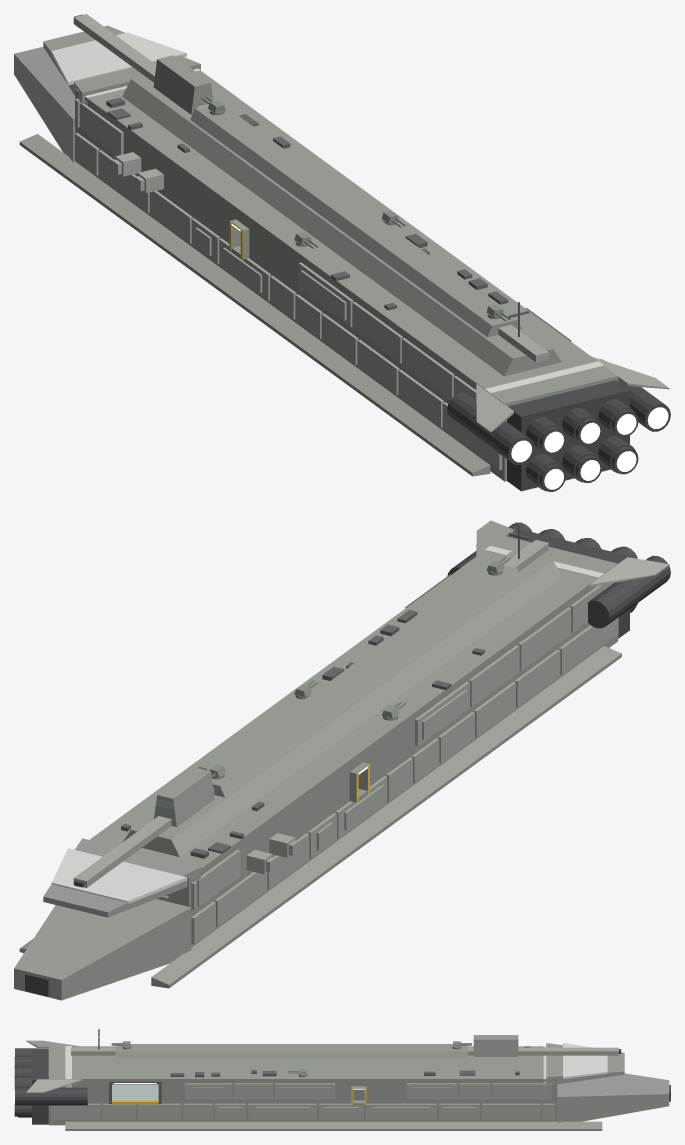
The model's file is ship_SMALL_DROP_FRIGATE_v3.glb.
3 views of the same model, one above another, from view 1: azimuth 30°, elevation 25°; view 2: azimuth 150°, elevation 25°; view 3: azimuth 270°, elevation 25° (orthographic). The views are drawn at different scales.
Visible parts, largest first — view 1: SMALL_DROP_FRIGATE_Hull-col, SMALL_DROP_FRIGATE_Armor, SMALL_DROP_FRIGATE_Engines, SMALL_DROP_FRIGATE_Accent, SMALL_DROP_FRIGATE_EngineGlow, SMALL_DROP_FRIGATE_Details; view 2: SMALL_DROP_FRIGATE_Hull-col, SMALL_DROP_FRIGATE_Armor, SMALL_DROP_FRIGATE_Engines, SMALL_DROP_FRIGATE_Accent, SMALL_DROP_FRIGATE_Details; view 3: SMALL_DROP_FRIGATE_Hull-col, SMALL_DROP_FRIGATE_Armor, SMALL_DROP_FRIGATE_Engines, SMALL_DROP_FRIGATE_Accent, SMALL_DROP_FRIGATE_CargoBayDoor-col, SMALL_DROP_FRIGATE_CargoBayShield, SMALL_DROP_FRIGATE_Details, SMALL_DROP_FRIGATE_Trim, SMALL_DROP_FRIGATE_Hazard.
Part boxes in pixels (bbox=[...]): SMALL_DROP_FRIGATE_Hull-col: bbox=[14, 25, 618, 481]; SMALL_DROP_FRIGATE_Armor: bbox=[73, 14, 669, 470]; SMALL_DROP_FRIGATE_Engines: bbox=[74, 14, 670, 491]; SMALL_DROP_FRIGATE_Accent: bbox=[51, 32, 603, 393]; SMALL_DROP_FRIGATE_EngineGlow: bbox=[511, 407, 668, 489]; SMALL_DROP_FRIGATE_Details: bbox=[106, 97, 529, 336]; SMALL_DROP_FRIGATE_Hull-col: bbox=[14, 536, 621, 1000]; SMALL_DROP_FRIGATE_Armor: bbox=[73, 520, 669, 943]; SMALL_DROP_FRIGATE_Engines: bbox=[25, 522, 670, 996]; SMALL_DROP_FRIGATE_Accent: bbox=[51, 546, 603, 903]; SMALL_DROP_FRIGATE_Details: bbox=[121, 524, 529, 858]; SMALL_DROP_FRIGATE_Hull-col: bbox=[48, 1035, 669, 1130]; SMALL_DROP_FRIGATE_Armor: bbox=[26, 1040, 618, 1119]; SMALL_DROP_FRIGATE_Engines: bbox=[14, 1048, 670, 1124]; SMALL_DROP_FRIGATE_Accent: bbox=[65, 1043, 607, 1087]; SMALL_DROP_FRIGATE_CargoBayDoor-col: bbox=[112, 1084, 158, 1099]; SMALL_DROP_FRIGATE_CargoBayShield: bbox=[112, 1084, 158, 1099]; SMALL_DROP_FRIGATE_Details: bbox=[98, 1029, 529, 1077]; SMALL_DROP_FRIGATE_Trim: bbox=[109, 1080, 161, 1103]; SMALL_DROP_FRIGATE_Hazard: bbox=[112, 1088, 366, 1105].
Bounding box in the file's own units: 21.9 × 17.4 × 118.
